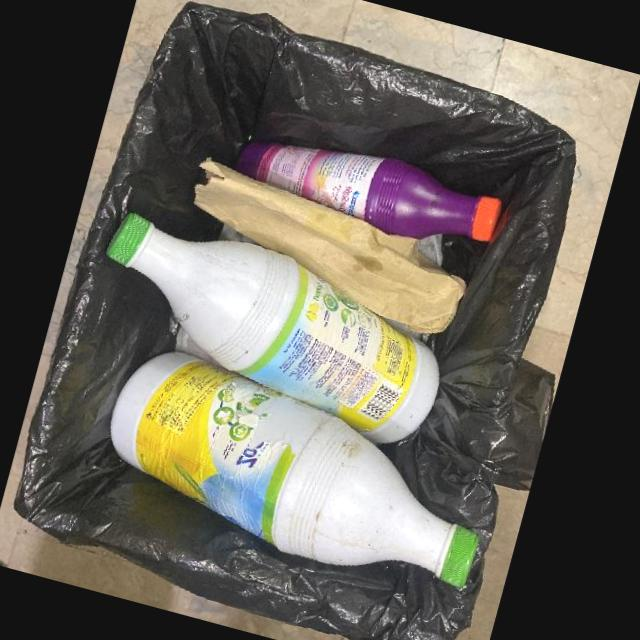chai_nhua: (109, 352, 479, 588), (106, 213, 439, 444), (233, 142, 501, 242)
giay: (193, 159, 466, 334)
